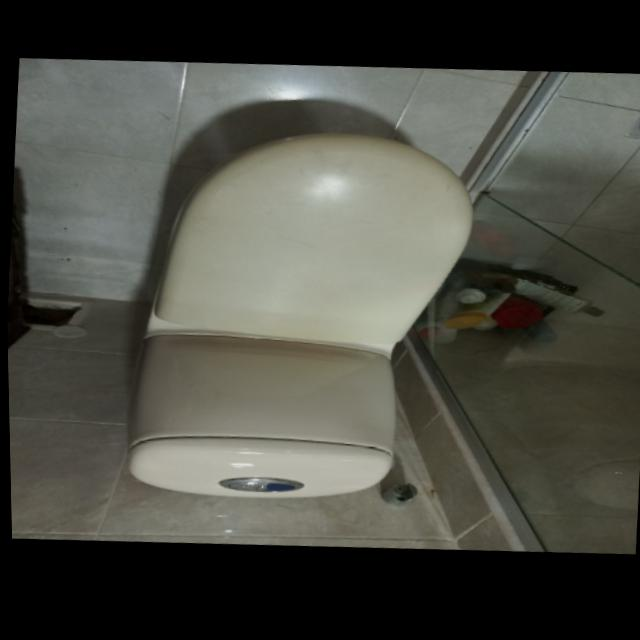toilet: (114, 117, 484, 520)
